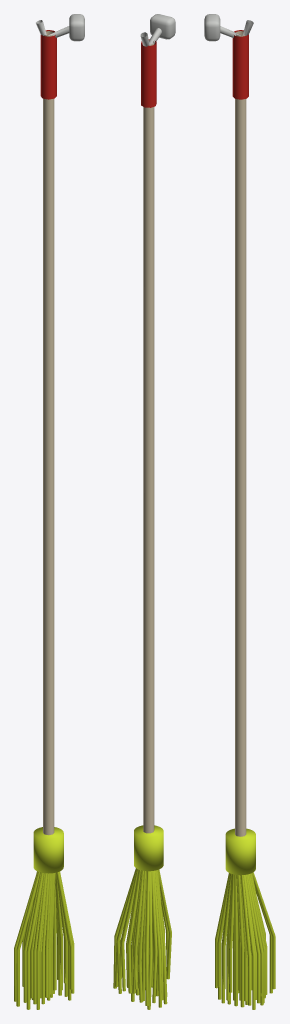
File: bathroom-door-mop.glb
3 renders of one model, left to right at view 1: azimuth 90°, elevation 25°; view 2: azimuth 150°, elevation 25°; view 3: azimuth 270°, elevation 25°, orthographic.
Visible parts, largest first — view 1: Bathroom inside-door mop / Pale beige shelf, Bathroom inside-door mop / Lime mop strands, Bathroom inside-door mop / Red dustpan and collar, Bathroom inside-door mop / Brushed stainless; view 2: Bathroom inside-door mop / Pale beige shelf, Bathroom inside-door mop / Lime mop strands, Bathroom inside-door mop / Red dustpan and collar, Bathroom inside-door mop / Brushed stainless; view 3: Bathroom inside-door mop / Pale beige shelf, Bathroom inside-door mop / Lime mop strands, Bathroom inside-door mop / Red dustpan and collar, Bathroom inside-door mop / Brushed stainless.
Part boxes in pixels (left/top/right/bottom): Bathroom inside-door mop / Pale beige shelf: left=43, top=31, right=54, bottom=835; Bathroom inside-door mop / Lime mop strands: left=14, top=827, right=74, bottom=1009; Bathroom inside-door mop / Red dustpan and collar: left=40, top=30, right=56, bottom=99; Bathroom inside-door mop / Brushed stainless: left=36, top=14, right=84, bottom=41; Bathroom inside-door mop / Pale beige shelf: left=143, top=40, right=154, bottom=833; Bathroom inside-door mop / Lime mop strands: left=113, top=825, right=171, bottom=1009; Bathroom inside-door mop / Red dustpan and collar: left=141, top=39, right=156, bottom=107; Bathroom inside-door mop / Brushed stainless: left=140, top=14, right=175, bottom=46; Bathroom inside-door mop / Pale beige shelf: left=235, top=31, right=246, bottom=836; Bathroom inside-door mop / Lime mop strands: left=215, top=828, right=275, bottom=1009; Bathroom inside-door mop / Red dustpan and collar: left=232, top=30, right=248, bottom=99; Bathroom inside-door mop / Brushed stainless: left=204, top=14, right=253, bottom=41.
Size of the model in its own units: 0.0981 by 1.72 by 0.1125.
